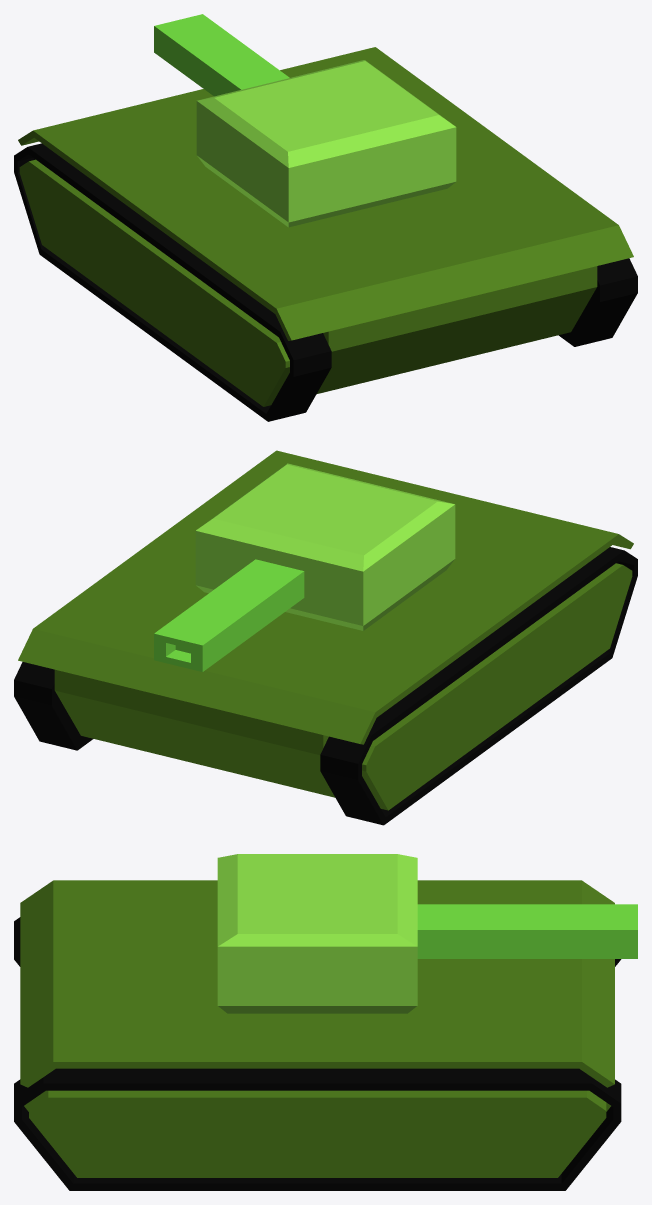
Rendered from tank2.fbx.
3 renders of one model, top to bottom at view 1: azimuth 30°, elevation 25°; view 2: azimuth 150°, elevation 25°; view 3: azimuth 270°, elevation 25°, orthographic. The views are drawn at different scales.
Parts seen in each view (by area): view 1: Body1, Turret1, Tracks1, Cannon1; view 2: Body1, Turret1, Tracks1, Cannon1; view 3: Body1, Turret1, Tracks1, Cannon1.
Boxes of the visible parts, x1,y1,x2,y2 form: Body1: [18, 47, 633, 406]; Turret1: [196, 60, 456, 227]; Tracks1: [14, 143, 637, 421]; Cannon1: [154, 14, 289, 96]; Body1: [18, 450, 633, 810]; Turret1: [195, 463, 455, 630]; Tracks1: [14, 547, 637, 825]; Cannon1: [154, 559, 304, 671]; Body1: [20, 880, 614, 1177]; Turret1: [217, 854, 417, 1013]; Tracks1: [14, 917, 621, 1190]; Cannon1: [417, 904, 637, 958].
Size of the model in its own units: 278 by 145 by 400.
